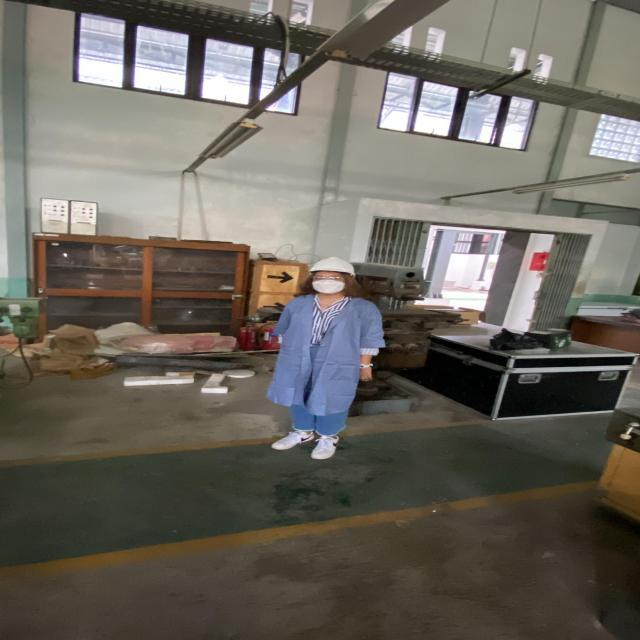glasses: (308, 274, 346, 282)
